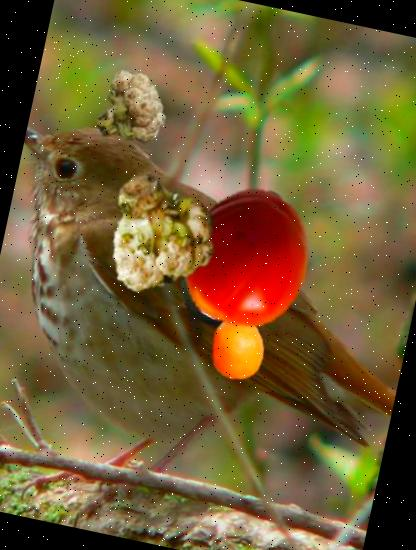Cauliflower: (86, 158, 226, 298), (82, 61, 176, 154)
Lemon: (200, 312, 275, 387)
Mango: (170, 226, 282, 338)
Tomato: (164, 175, 332, 343)
